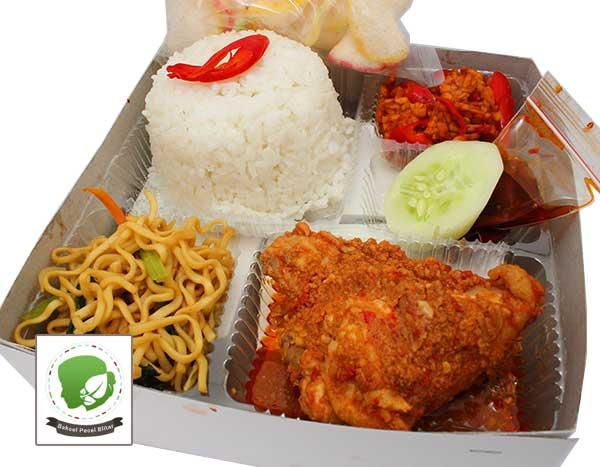buah_sayur_lainnya: (406, 160, 471, 225)
buah_sayur_vitA: (399, 89, 487, 136)
daging: (296, 290, 515, 410)
makanan_berpati: (180, 95, 319, 197), (94, 239, 197, 327)
